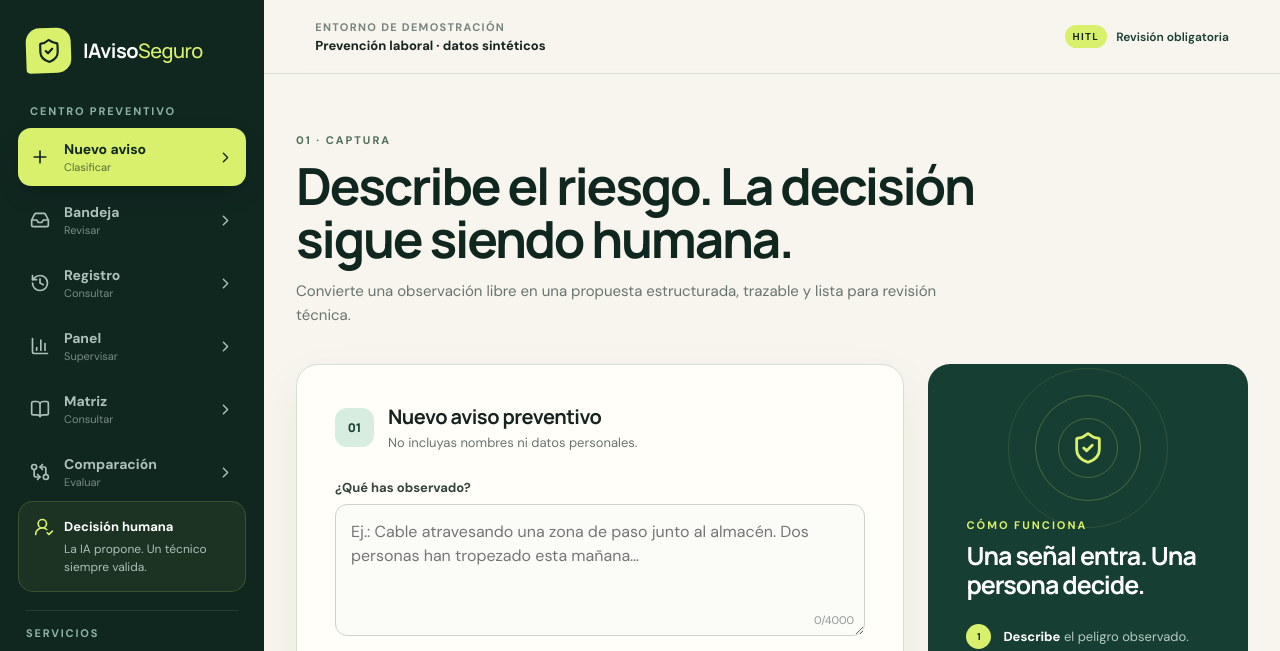
IAviso Seguro › informa de forma discreta cuando el backend anonimiza el aviso
Type "DNI 12345678Z y correo juan@email.com" into the text box labelled "¿Qué has observado?" at (600, 570), box 335,504 -> 865,636
(page scrolled)
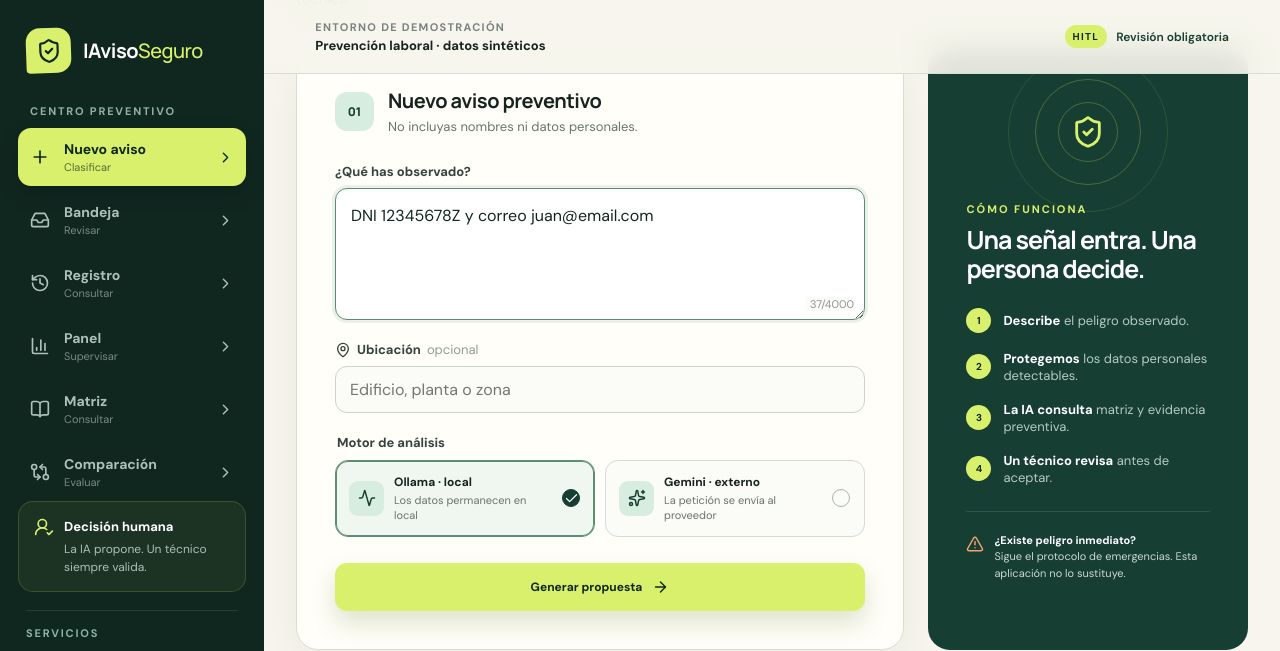
Click the button "Generar propuesta" at (600, 587), box 335,563 -> 865,611
(page scrolled)
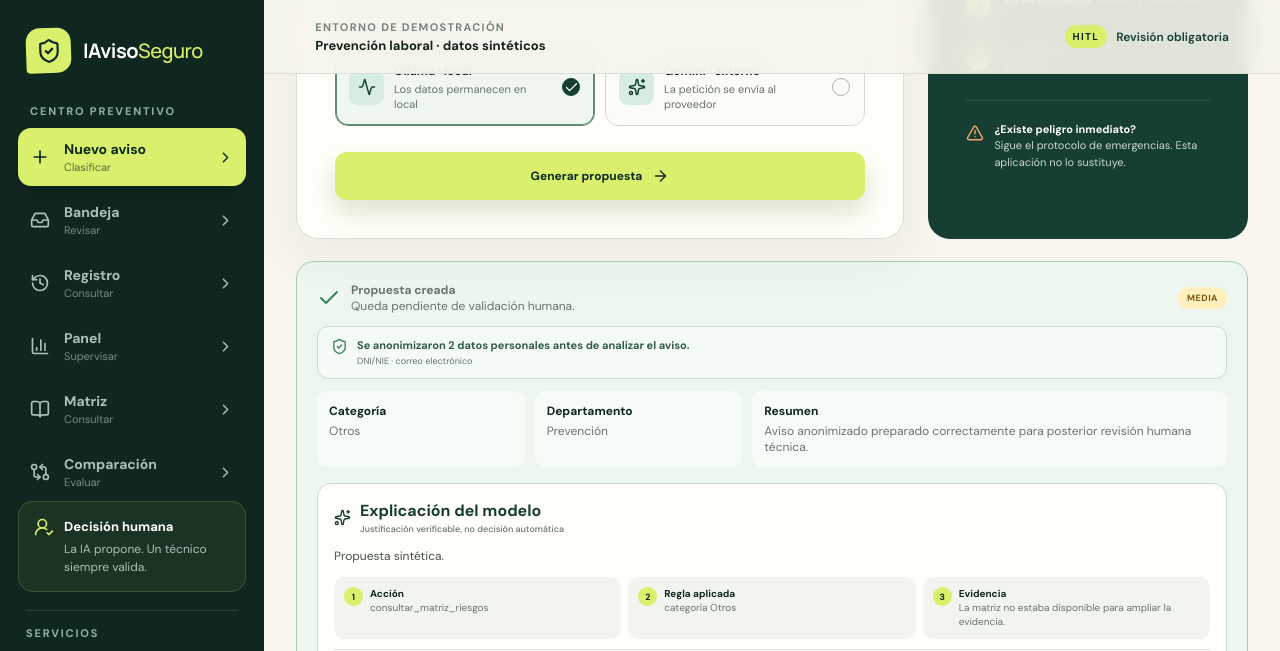
Expected: the text "Se anonimizaron 2 datos personales antes de analizar el aviso." is shown, 357,338 -> 690,352
Expected: the text "DNI/NIE · correo electrónico" is shown, 357,355 -> 472,367
